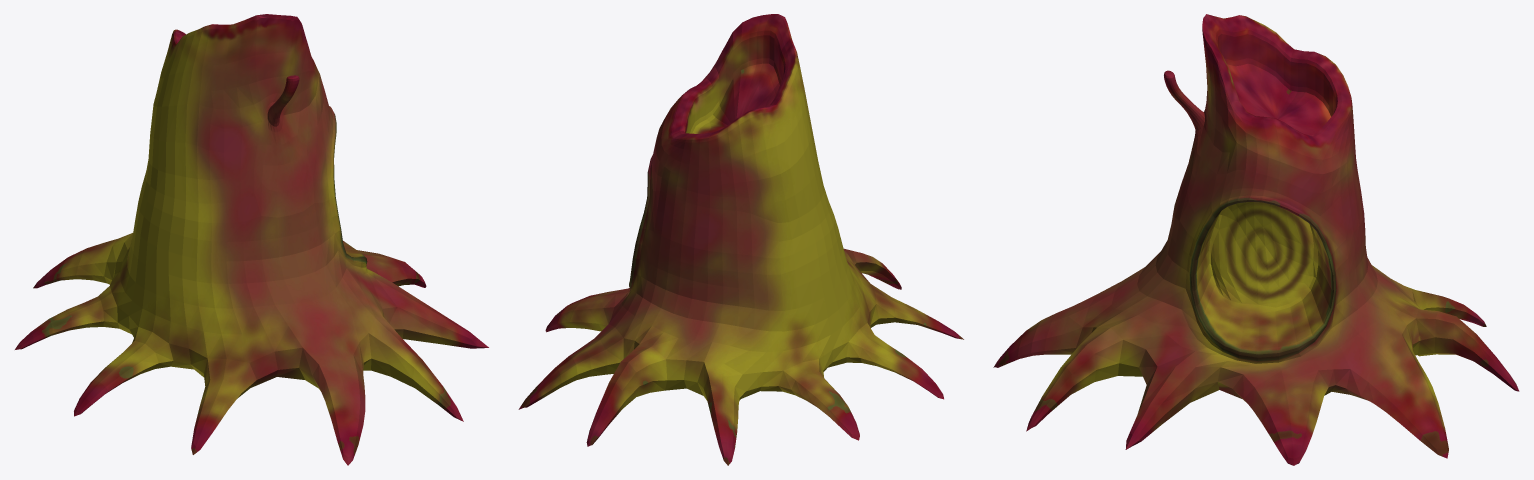
Rendered from pen_uv2.obj.
3 renders of one model, left to right at view 1: azimuth 30°, elevation 25°; view 2: azimuth 150°, elevation 25°; view 3: azimuth 270°, elevation 25°, orthographic. The views are drawn at different scales.
Parts seen in each view (by area): view 1: pen__2_:pCylinder3; view 2: pen__2_:pCylinder3; view 3: pen__2_:pCylinder3.
Part boxes in pixels (bbox=[...]): pen__2_:pCylinder3: bbox=[15, 14, 488, 465]; pen__2_:pCylinder3: bbox=[518, 14, 963, 465]; pen__2_:pCylinder3: bbox=[993, 14, 1519, 465].
Bounding box in the file's own units: 3.07 × 2.8 × 3.65.
